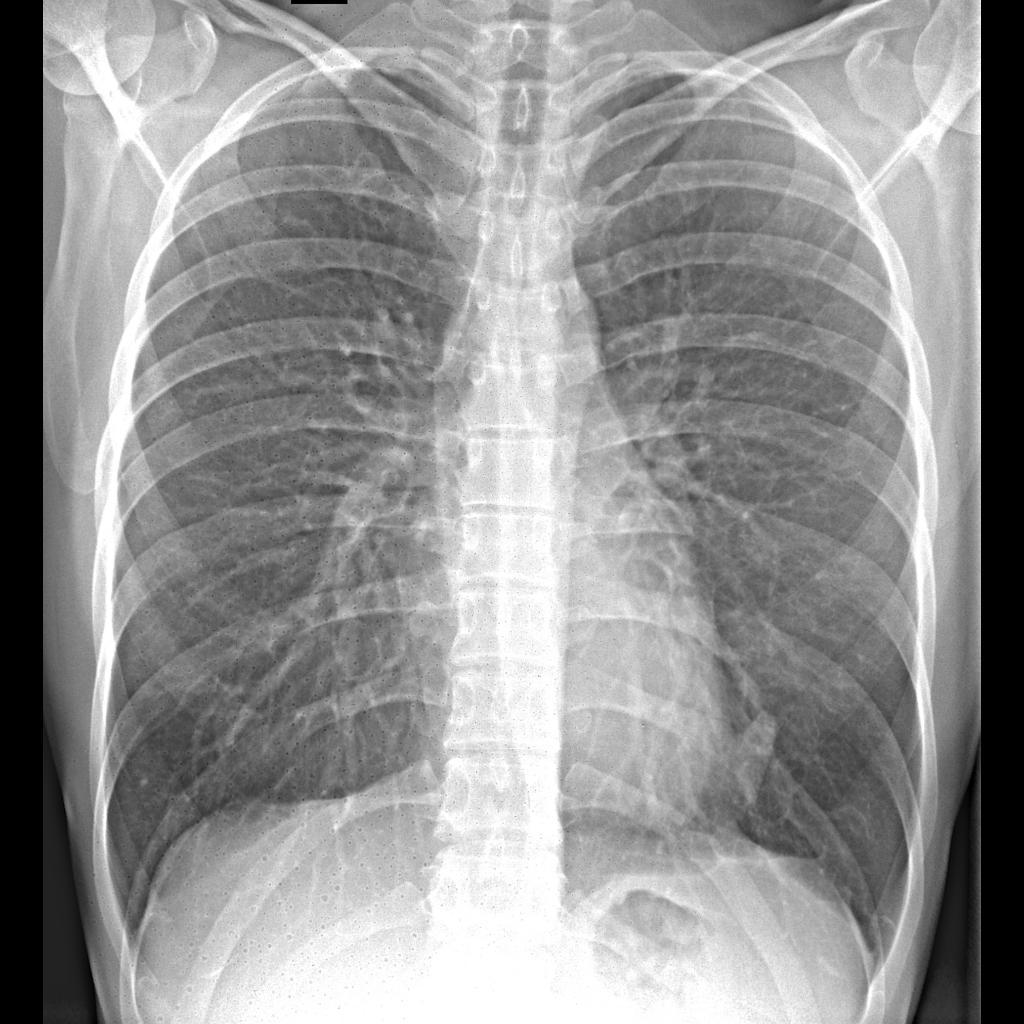Nodule: (724, 699, 786, 822)
